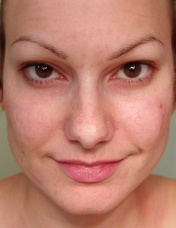Forehead: (6, 0, 169, 51)
